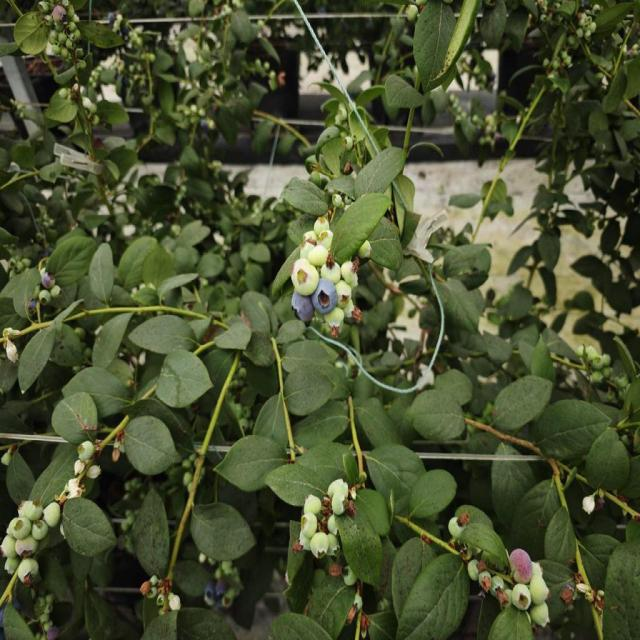RipeBlueBerry: (312, 278, 338, 316), (290, 292, 314, 323)
Semi-RipeBlueBerry: (509, 548, 533, 584)
UnripeBlueBerry: (293, 264, 319, 296)
